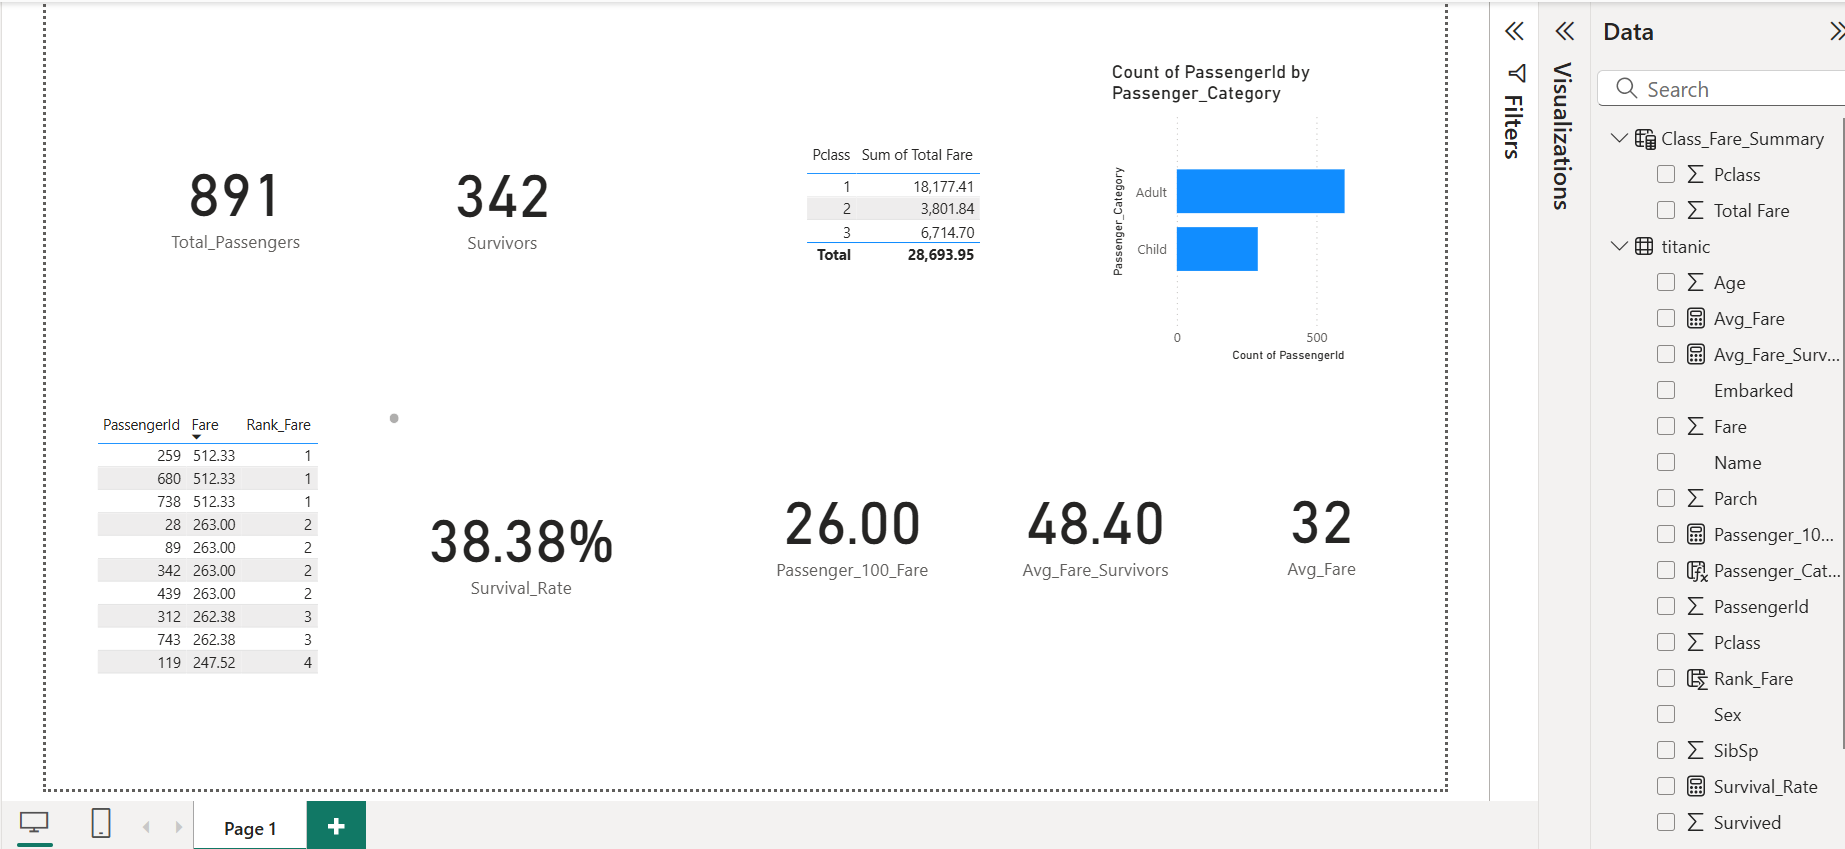

This screenshot's page, from the dashboard's own definition file:
{"tool":"powerbi","page":{"name":"Page 1","canvas":[1280,720],"ordinal":0},"visuals":[{"type":"card","fields":{"Values":["titanic.Avg_Fare"]},"box":[1080,360,173.3,240],"z":0},{"type":"card","fields":{"Values":["titanic.Total_Passengers"]},"box":[41.4,65.7,264.3,228.6],"z":1},{"type":"card","fields":{"Values":["titanic.Survivors"]},"box":[294.3,52.9,247.1,254.3],"z":2},{"type":"clusteredBarChart","fields":{"Category":["titanic.Passenger_Category"],"Y":["CountNonNull(titanic.PassengerId)"]},"box":[970,53.3,283.3,280],"z":3},{"type":"tableEx","fields":{"Values":["Class_Fare_Summary.Pclass","Sum(Class_Fare_Summary.Total Fare)"]},"box":[690,123.3,180,140],"z":4},{"type":"card","fields":{"Values":["titanic.Passenger_100_Fare"]},"box":[633.3,370,206.7,220],"z":5},{"type":"card","fields":{"Values":["titanic.Avg_Fare_Survivors"]},"box":[840,370,240,220],"z":6},{"type":"tableEx","fields":{"Values":["titanic.PassengerId","titanic.Fare","titanic.Rank_Fare"]},"box":[41.1,370,286.7,252.2],"z":7},{"type":"card","fields":{"Values":["titanic.Survival_Rate"]},"box":[328,370,213,252],"z":8}]}

Visuals, with their boxes on the page's 1280x720 design canvas (x1, y1, x2, y2). These are canvas units, not pixel positions in the 1845x849 screenshot, which may show the page scaled, cropped or inside an application window:
card - titanic.Avg_Fare: {"x1": 1080, "y1": 360, "x2": 1253, "y2": 600}
card - titanic.Total_Passengers: {"x1": 41, "y1": 66, "x2": 306, "y2": 294}
card - titanic.Survivors: {"x1": 294, "y1": 53, "x2": 541, "y2": 307}
clusteredBarChart - titanic.Passenger_Category x CountNonNull(titanic.PassengerId): {"x1": 970, "y1": 53, "x2": 1253, "y2": 333}
tableEx - Class_Fare_Summary.Pclass x Sum(Class_Fare_Summary.Total Fare): {"x1": 690, "y1": 123, "x2": 870, "y2": 263}
card - titanic.Passenger_100_Fare: {"x1": 633, "y1": 370, "x2": 840, "y2": 590}
card - titanic.Avg_Fare_Survivors: {"x1": 840, "y1": 370, "x2": 1080, "y2": 590}
tableEx - titanic.PassengerId x titanic.Fare: {"x1": 41, "y1": 370, "x2": 328, "y2": 622}
card - titanic.Survival_Rate: {"x1": 328, "y1": 370, "x2": 541, "y2": 622}
